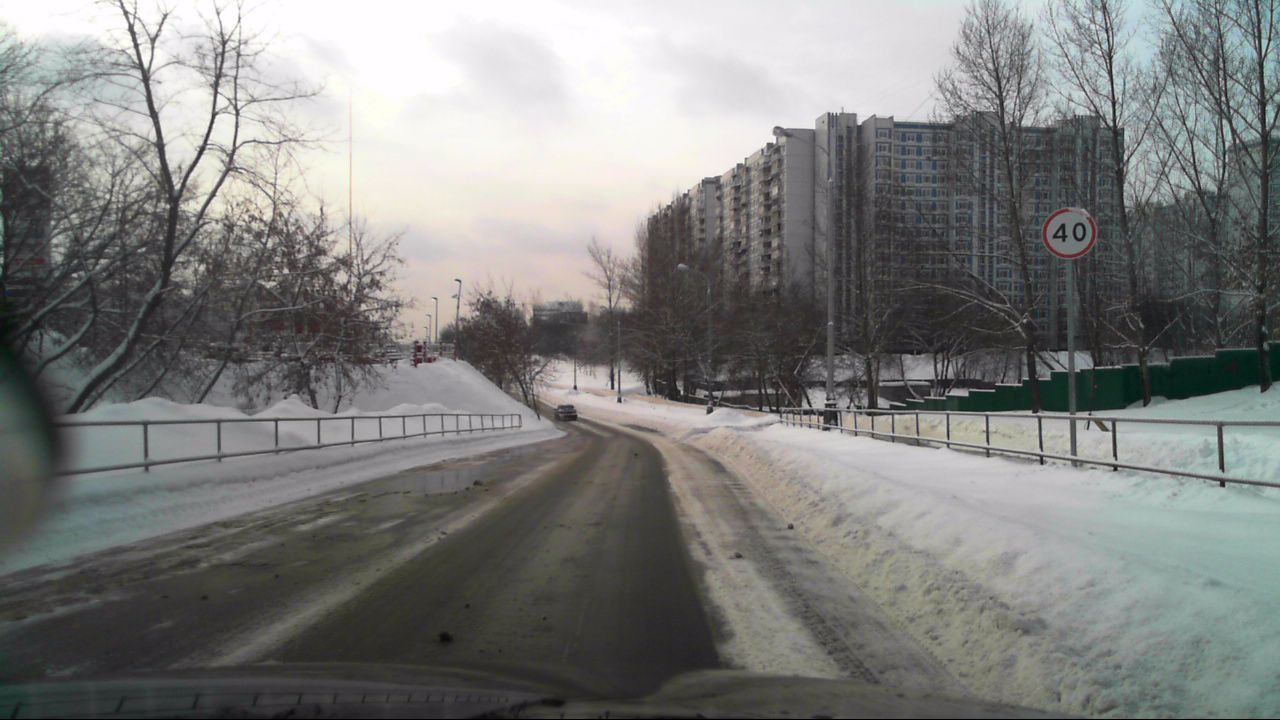speed_warning_40: (1040, 207, 1098, 260)
